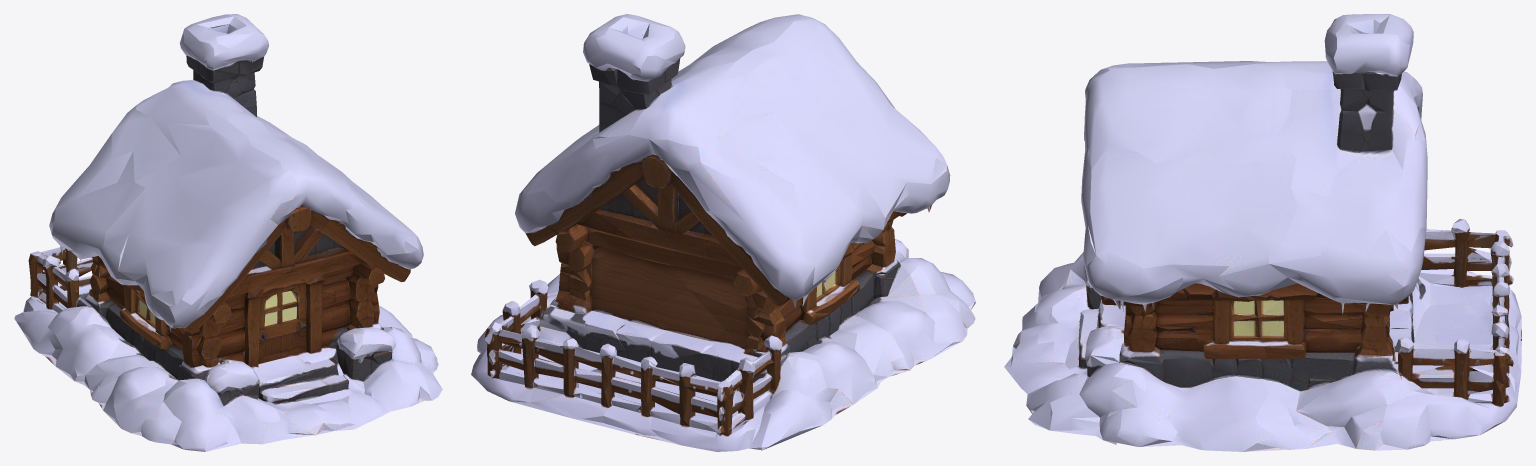
The model's file is cabin.glb.
3 renders of one model, left to right at view 1: azimuth 30°, elevation 25°; view 2: azimuth 150°, elevation 25°; view 3: azimuth 270°, elevation 25°, orthographic. The views are drawn at different scales.
Parts seen in each view (by area): view 1: output_unwrapped; view 2: output_unwrapped; view 3: output_unwrapped.
Part boxes in pixels (x1,y1,x2,y2): output_unwrapped: [14, 14, 442, 451]; output_unwrapped: [471, 14, 975, 451]; output_unwrapped: [1004, 14, 1521, 451].
Size of the model in its own units: 1.65 by 1.45 by 1.92.
1 material, 1 textured.
